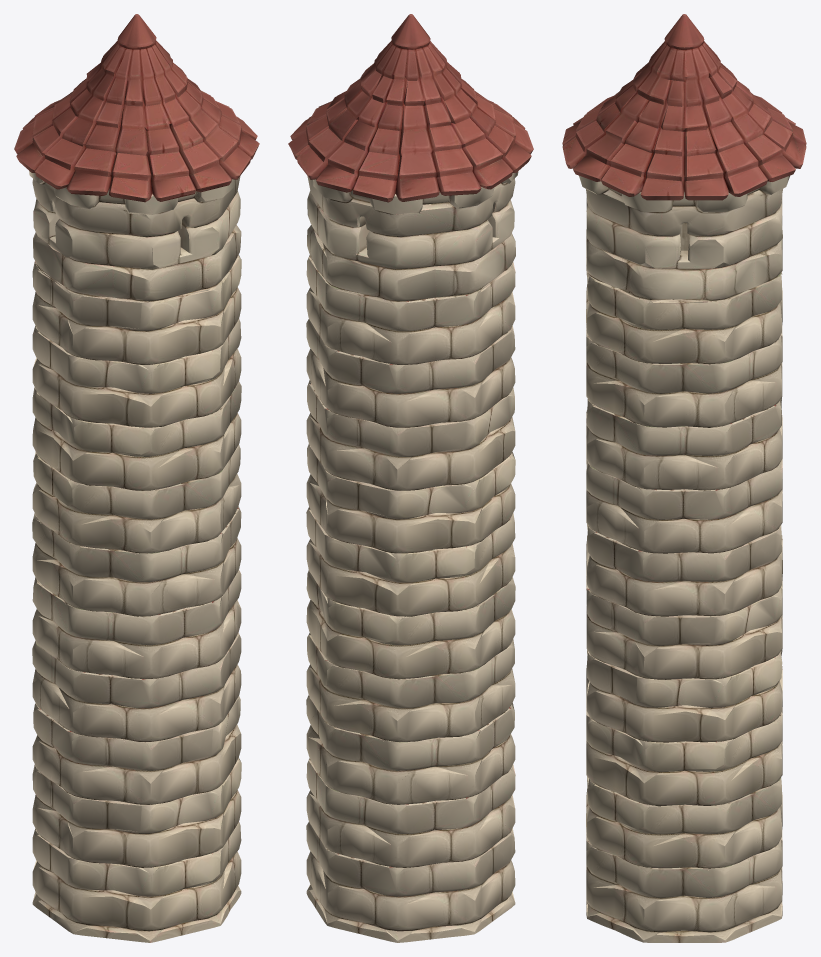
File: sandstone_turret.glb
3 views of the same model, side by side, from view 1: azimuth 30°, elevation 25°; view 2: azimuth 150°, elevation 25°; view 3: azimuth 270°, elevation 25° (orthographic).
Visible parts, largest first — view 1: SandstoneTurret; view 2: SandstoneTurret; view 3: SandstoneTurret.
Part boxes in pixels (<box>): SandstoneTurret: <box>14,14,259,942</box>; SandstoneTurret: <box>288,14,533,942</box>; SandstoneTurret: <box>562,14,806,942</box>.
Size of the model in its own units: 0.9097 by 3.69 by 0.9209.
1 material, 1 textured.
